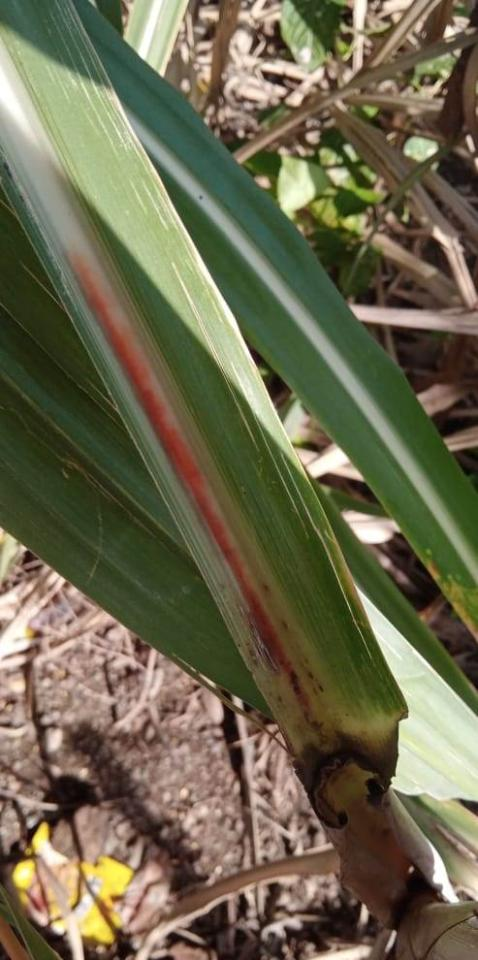RedRot: (68, 247, 314, 714)
